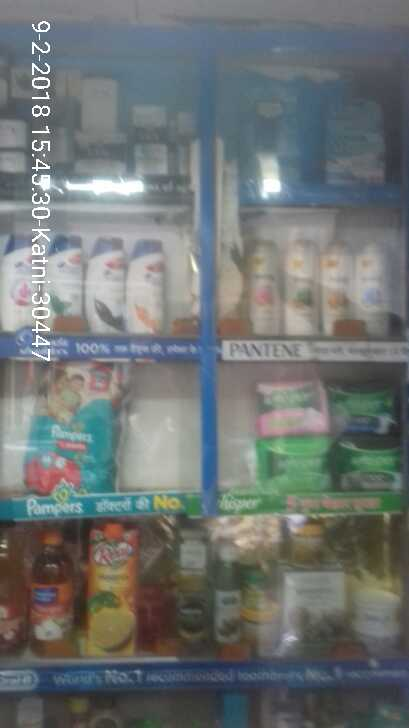venus: (321, 96, 385, 184), (242, 84, 299, 180)
